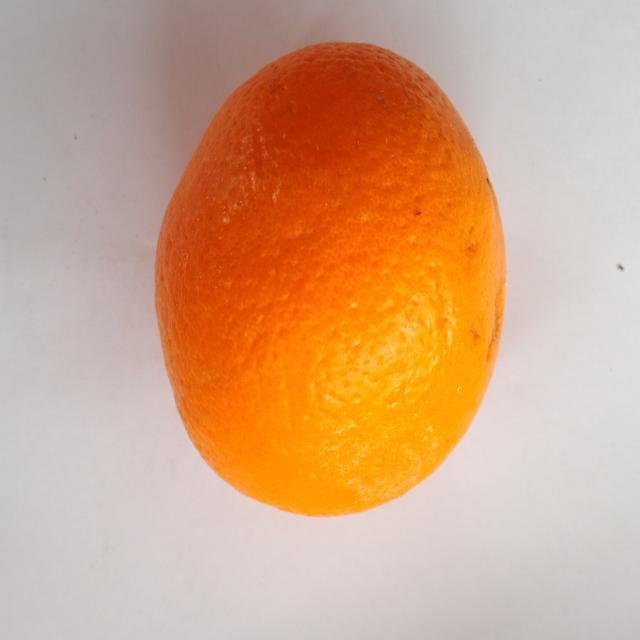orange: (156, 43, 505, 514)
